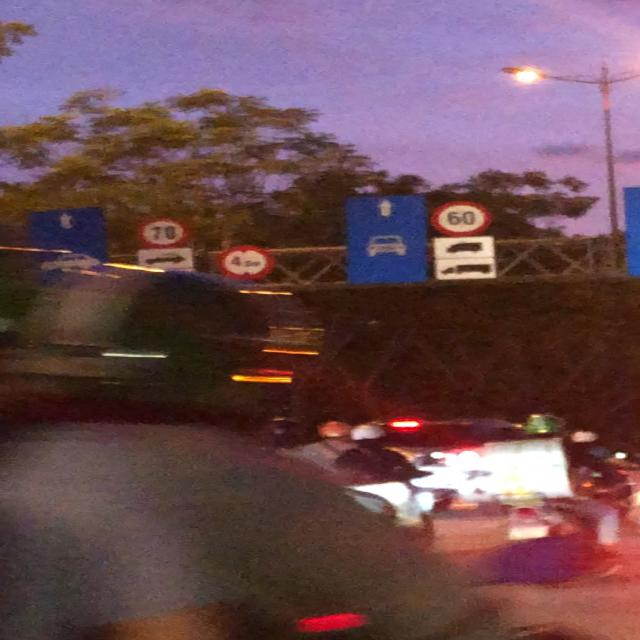Bien bao han che chieu cao: (215, 244, 278, 283)
Bien bao toc do toi da cho phep: (422, 198, 498, 240), (137, 214, 195, 249)
